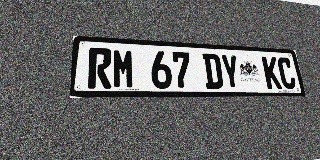6: (151, 51, 173, 89)
7: (171, 52, 193, 89)
C: (276, 57, 297, 89)
D: (202, 53, 224, 89)
K: (261, 56, 282, 89)
M: (112, 49, 135, 89)
R: (88, 47, 112, 89)
Y: (220, 54, 241, 89)
